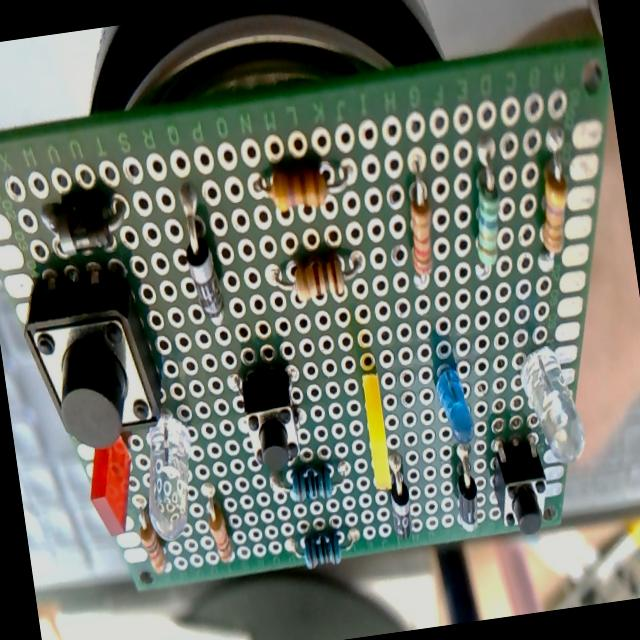diode: (174, 182, 228, 328), (39, 194, 131, 261), (448, 442, 484, 536), (384, 453, 416, 543)
led: (134, 406, 205, 544), (516, 342, 588, 469), (84, 430, 144, 540), (358, 368, 395, 492), (432, 362, 477, 449)
resistor: (458, 141, 512, 279), (250, 155, 355, 218), (270, 249, 368, 308), (398, 172, 444, 292), (532, 164, 576, 260), (289, 528, 360, 572), (287, 464, 335, 506), (206, 502, 236, 566), (138, 516, 168, 576)
switch: (20, 264, 168, 454), (236, 364, 306, 483), (488, 433, 554, 538)
